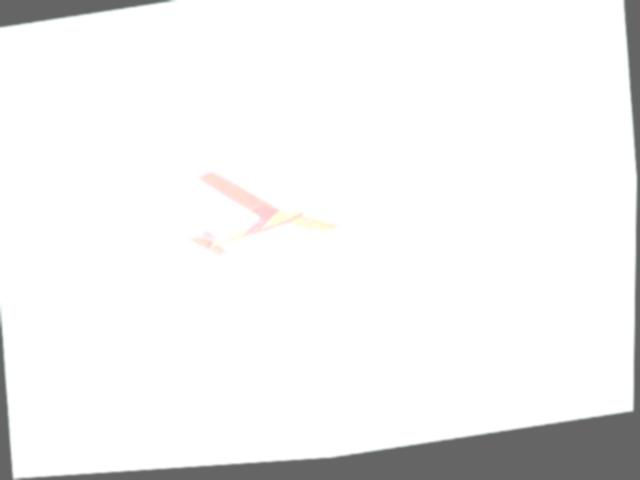iha: (171, 155, 345, 268)
